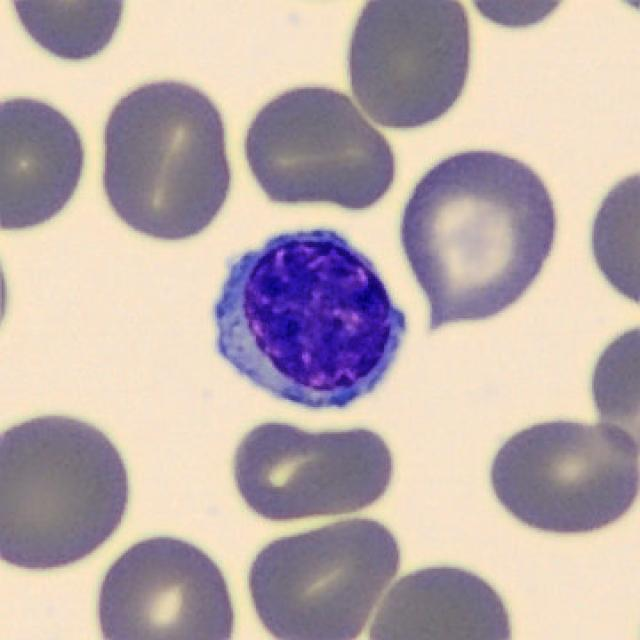Linfocito atipico: (213, 233, 405, 409)
